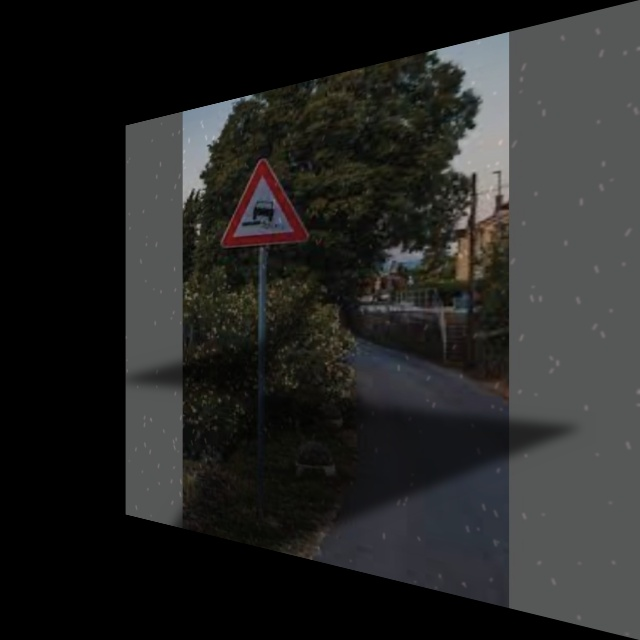Loose_Gravel: (221, 150, 307, 253)
